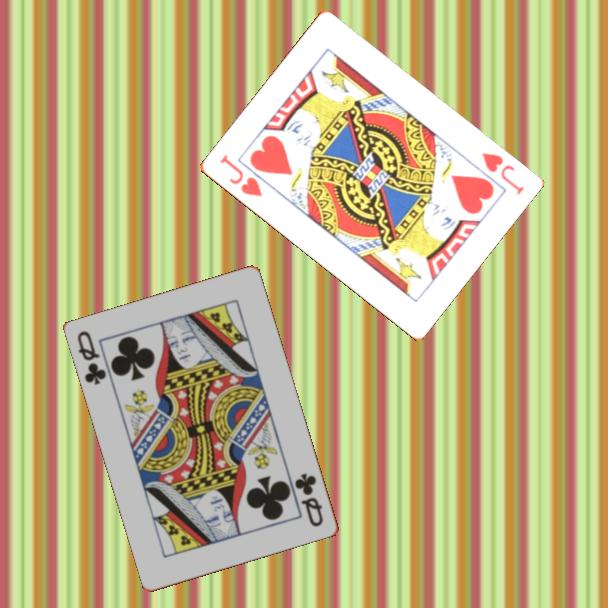c12: (74, 327, 110, 388), (291, 470, 327, 530)
h11: (216, 151, 265, 200), (478, 149, 527, 198)
